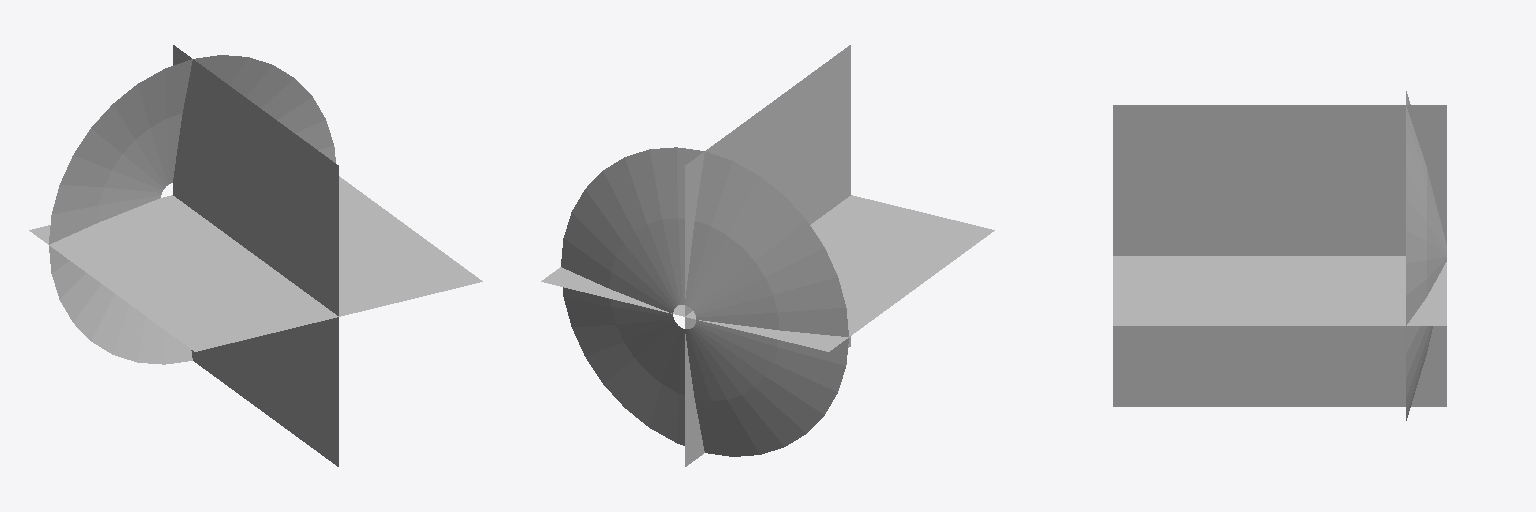
File: MuzzleFlash5.obj
The picture shows the model from 3 angles: view 1: azimuth 30°, elevation 25°; view 2: azimuth 150°, elevation 25°; view 3: azimuth 270°, elevation 25°; orthographic projection.
Visible parts, largest first — view 1: Plane, Plane.001, Cylinder; view 2: Cylinder, Plane, Plane.001; view 3: Plane, Plane.001, Cylinder.
Boxes of the visible parts, box(x1,y1,x2,y2) form: Plane: box(173, 45, 338, 466); Plane.001: box(29, 176, 482, 351); Cylinder: box(49, 55, 335, 364); Cylinder: box(561, 147, 848, 456); Plane: box(685, 45, 850, 466); Plane.001: box(541, 195, 994, 351); Plane: box(1113, 105, 1446, 406); Plane.001: box(1113, 256, 1446, 325); Cylinder: box(1406, 91, 1446, 420).
Bounding box in the file's own units: 2 × 2 × 2.